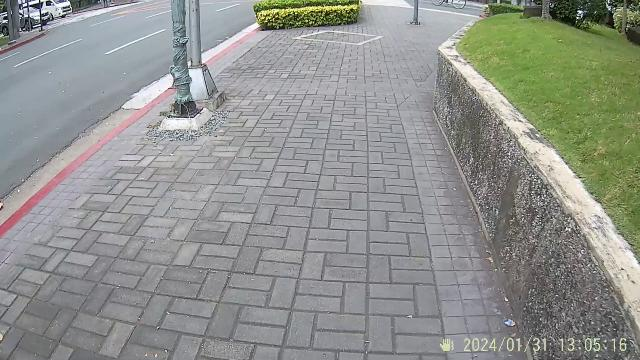potted_plant: (254, 1, 362, 31)
